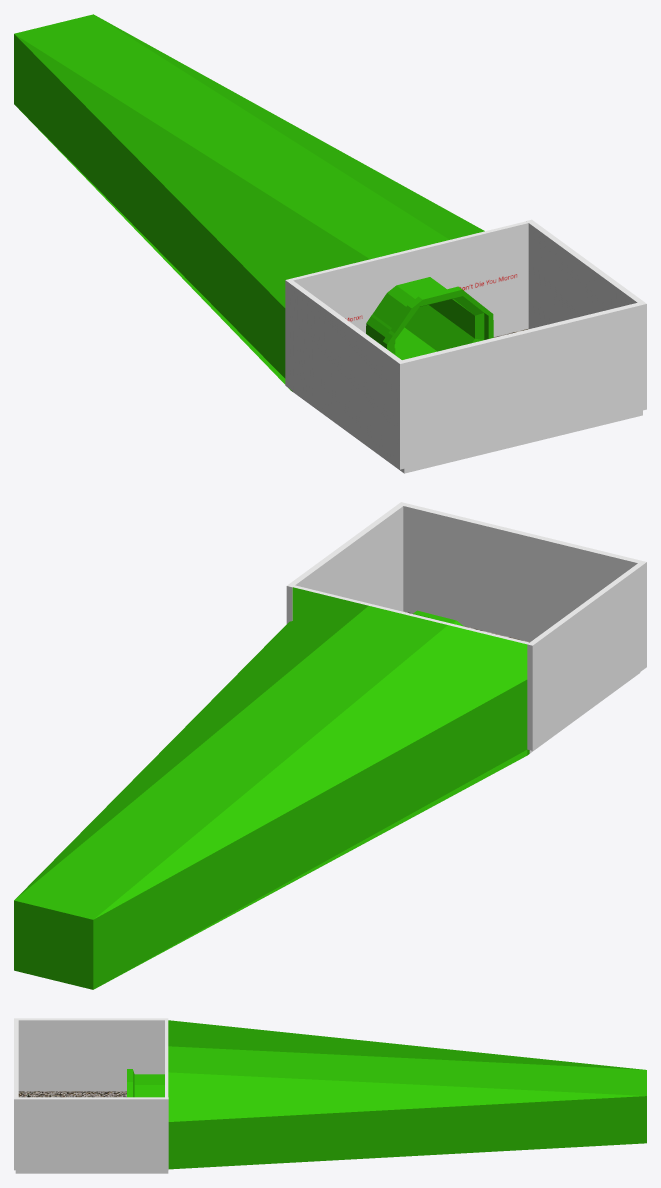
Rendered from Work Interior.fbx.
3 renders of one model, top to bottom at view 1: azimuth 30°, elevation 25°; view 2: azimuth 150°, elevation 25°; view 3: azimuth 270°, elevation 25°, orthographic. The views are drawn at different scales.
Visible parts, largest first — view 1: Work Interior; view 2: Work Interior; view 3: Work Interior.
Boxes of the visible parts, x1,y1,x2,y2 form: Work Interior: [14, 14, 646, 473]; Work Interior: [14, 502, 646, 989]; Work Interior: [14, 1018, 646, 1173].
Bounding box in the file's own units: 1730 × 753 × 5717.
